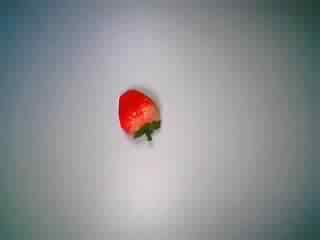strawberry: (111, 85, 164, 148)
